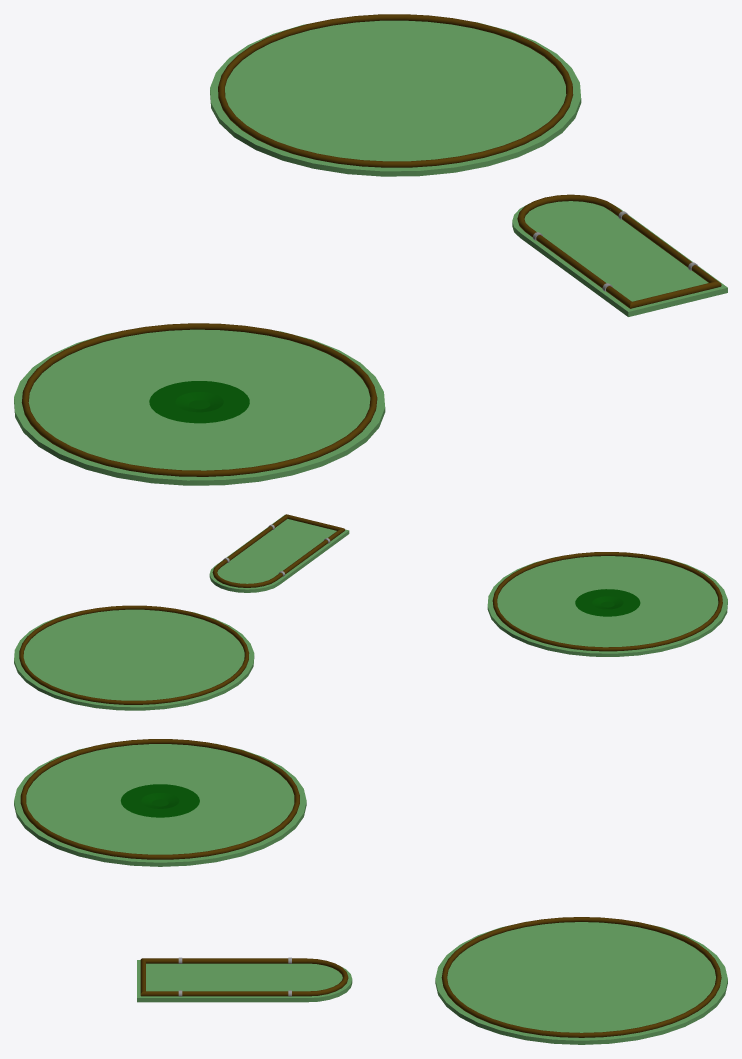
File: Hole05.FBX
3 views of the same model, one above another, from view 1: azimuth 30°, elevation 25°; view 2: azimuth 150°, elevation 25°; view 3: azimuth 270°, elevation 25° (orthographic). The views are drawn at different scales.
Parts seen in each view (by area): view 1: Course05; view 2: Course05; view 3: Course05.
Part boxes in pixels (left/top/right/bottom): Course05: left=14, top=14, right=727, bottom=485; Course05: left=14, top=514, right=727, bottom=710; Course05: left=14, top=739, right=727, bottom=1044.
Size of the model in its own units: 3903 by 53.27 by 3903.
